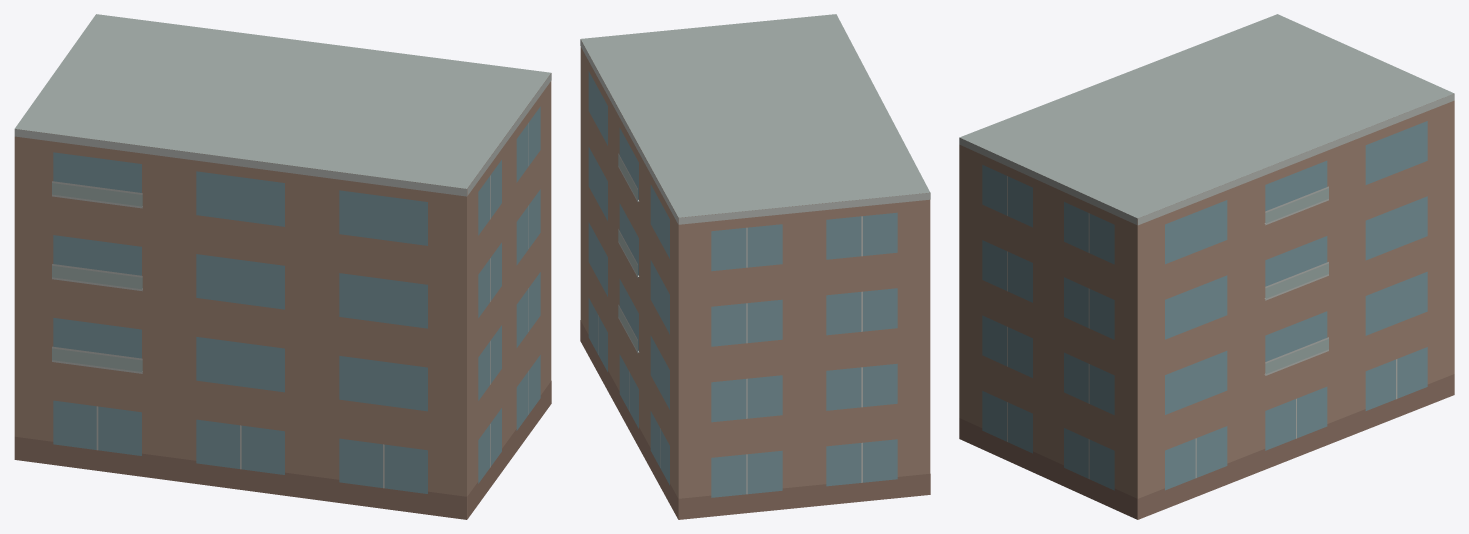
File: survey-upis-32529041.glb
3 views of the same model, side by side, from view 1: azimuth 30°, elevation 25°; view 2: azimuth 150°, elevation 25°; view 3: azimuth 270°, elevation 25° (orthographic). The views are drawn at different scales.
Visible parts, largest first — view 1: survey-upis-32529041.tmp; view 2: survey-upis-32529041.tmp; view 3: survey-upis-32529041.tmp.
Part boxes in pixels (<box>): survey-upis-32529041.tmp: <box>14,14,551,519</box>; survey-upis-32529041.tmp: <box>580,14,930,519</box>; survey-upis-32529041.tmp: <box>959,14,1454,519</box>.
Bounding box in the file's own units: 15.28 × 10.5 × 15.65.
